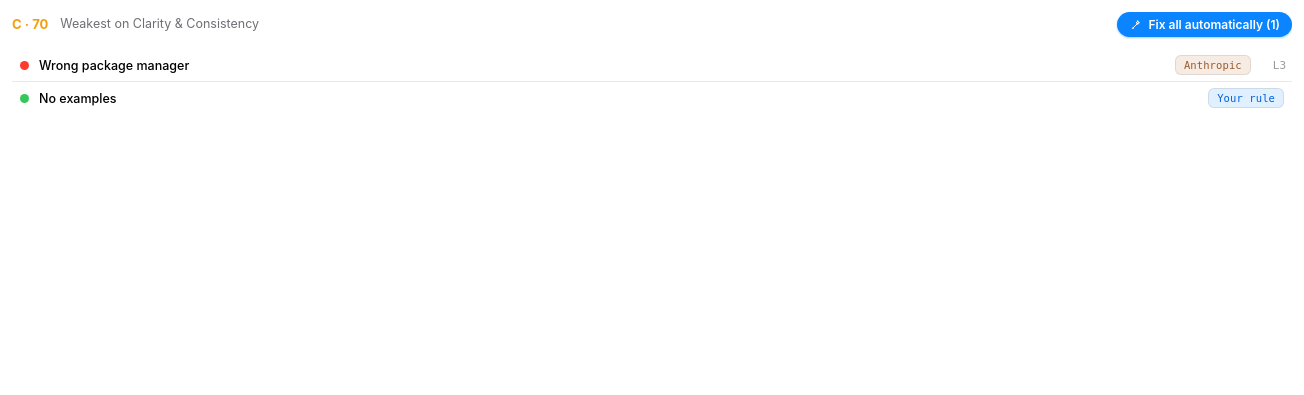
Test: copy sweep (spec §3.3, §13a) — loaded screens › Findings with a real file, finding expanded (IssueActions)
What coordinates should you click on to do the following:
click the button "Wrong package manager Anthropic"
I would click on:
 (114, 65)
Its box is [12,49,1259,81].
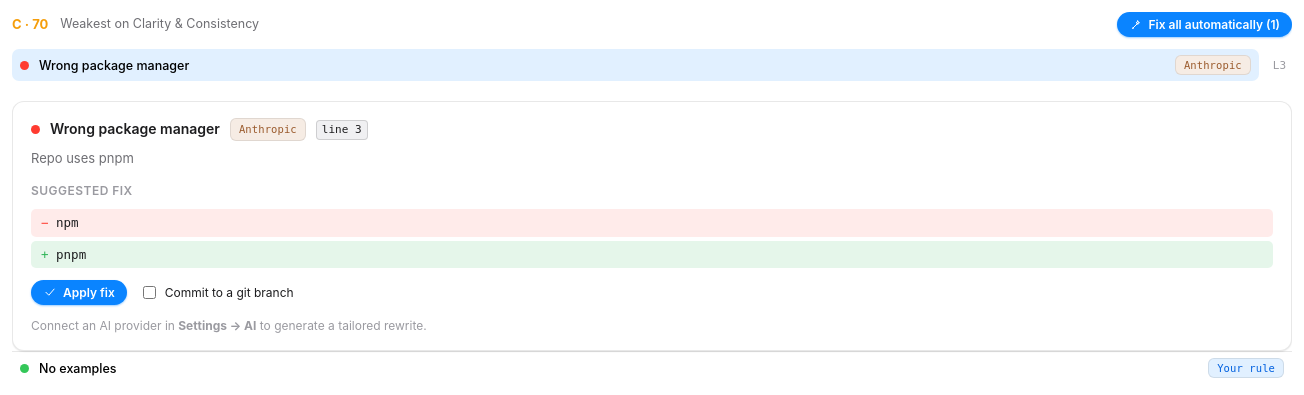
Now the text "Repo uses pnpm" is shown, box [31,150,134,166]
